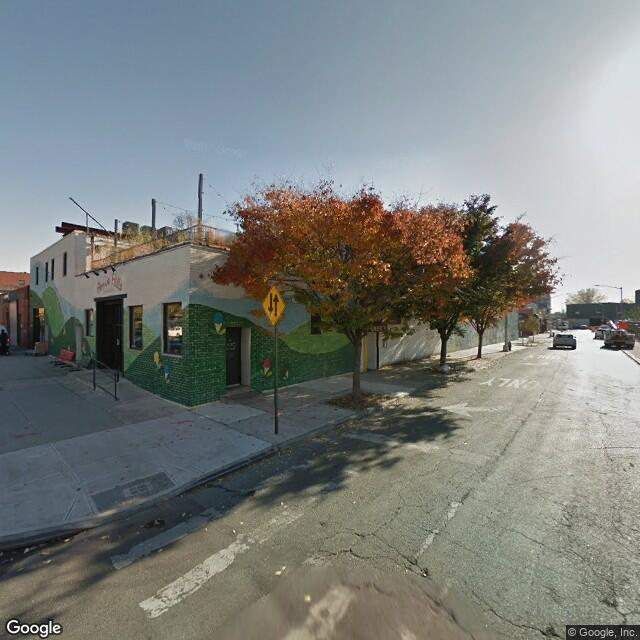litter: (12, 541, 126, 558), (56, 346, 80, 373)
